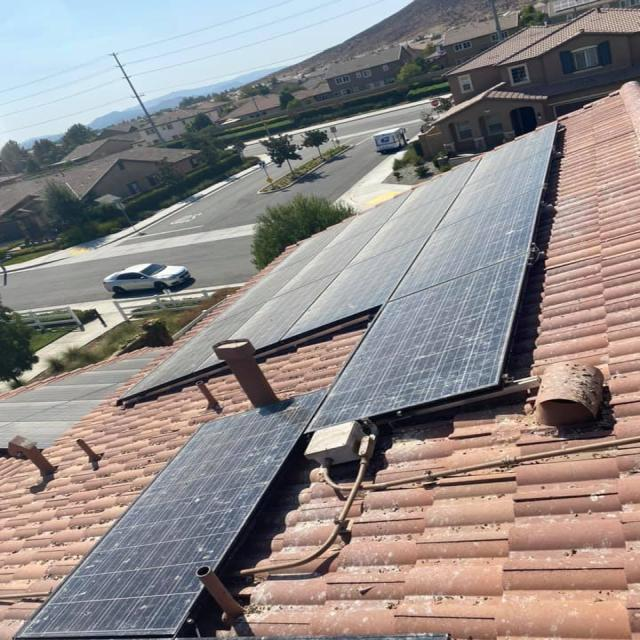dust-solar-panel: (115, 120, 557, 431), (12, 387, 329, 636)
